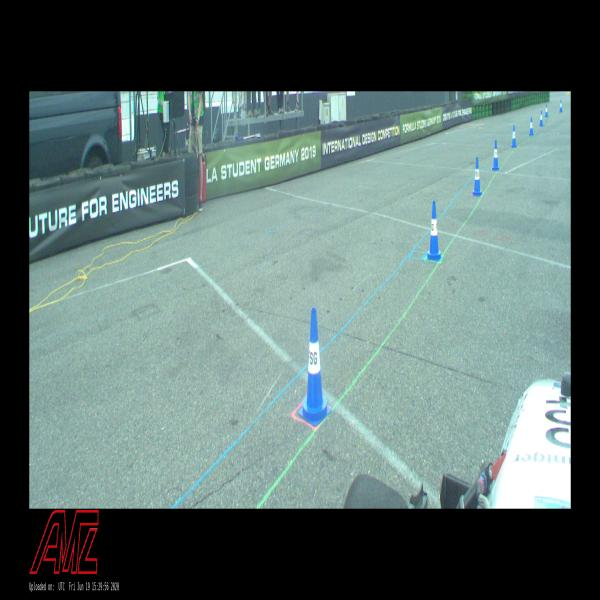blue_cone: (298, 307, 332, 425), (427, 201, 442, 261), (473, 158, 482, 195), (492, 140, 499, 170), (511, 126, 517, 147), (529, 117, 533, 135), (539, 111, 543, 126), (545, 103, 547, 116), (560, 99, 562, 112)
